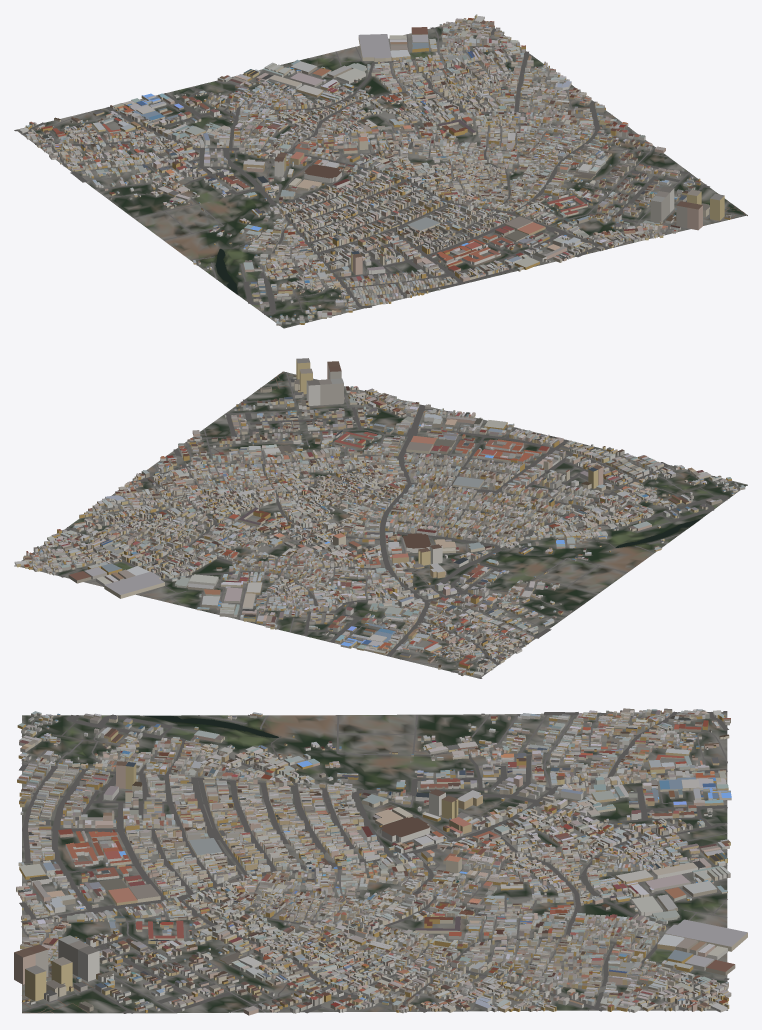
The picture shows the model from 3 angles, top to bottom: view 1: azimuth 30°, elevation 25°; view 2: azimuth 150°, elevation 25°; view 3: azimuth 270°, elevation 25°; orthographic projection. The views are drawn at different scales.
Parts seen in each view (by area): view 1: buildings, ground, roads; view 2: buildings, ground, roads; view 3: buildings, ground, roads, water.
Part boxes in pixels (box(x1,y1,x2,y2)): buildings: box(19, 14, 731, 325); ground: box(17, 18, 747, 328); roads: box(14, 27, 747, 324); buildings: box(14, 358, 745, 676); ground: box(14, 371, 747, 678); roads: box(14, 371, 739, 678); buildings: box(14, 708, 747, 1015); ground: box(22, 712, 727, 1013); roads: box(19, 711, 729, 1013); water: box(143, 715, 278, 737).
Bounding box in the file's own units: 1422 × 63.76 × 1457.
